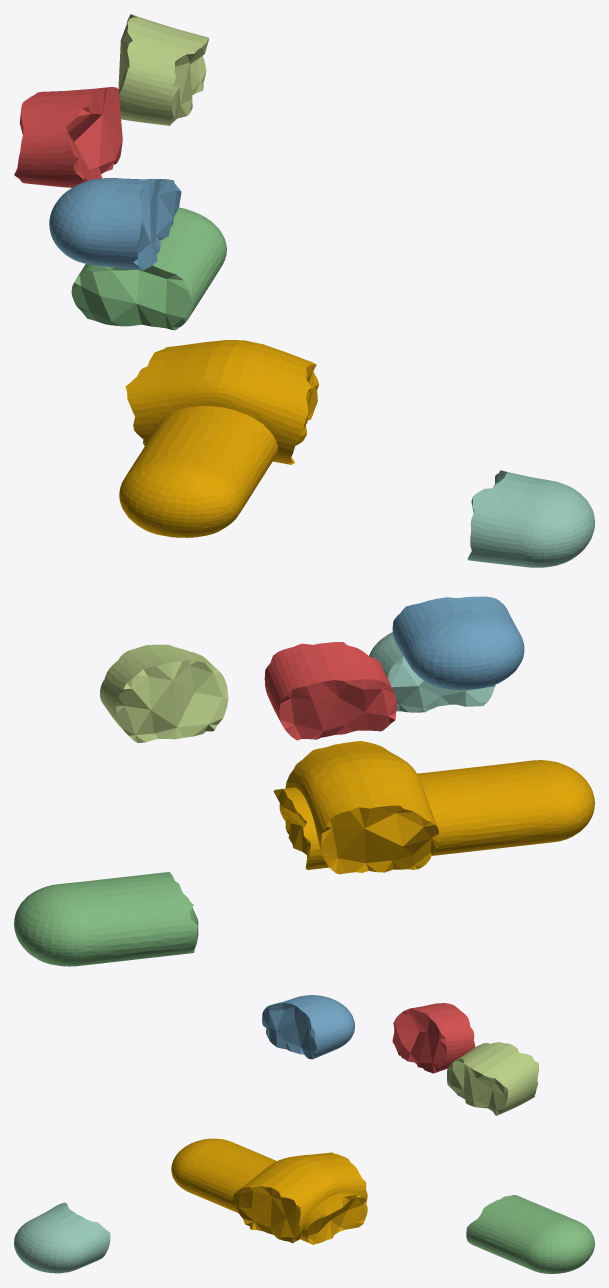
The model's file is fractured_58_6pcs_transformed.glb.
The picture shows the model from 3 angles, top to bottom: view 1: azimuth 30°, elevation 25°; view 2: azimuth 150°, elevation 25°; view 3: azimuth 270°, elevation 25°; orthographic projection. The views are drawn at different scales.
Parts seen in each view (by area): view 1: piece_0.obj, piece_3.obj, piece_2.obj, piece_4.obj, piece_1.obj, piece_5.obj; view 2: piece_0.obj, piece_3.obj, piece_1.obj, piece_2.obj, piece_5.obj, piece_4.obj; view 3: piece_0.obj, piece_3.obj, piece_5.obj, piece_4.obj, piece_2.obj, piece_1.obj.
Part boxes in pixels (bbox=[...]): piece_0.obj: bbox=[119, 340, 318, 537]; piece_3.obj: bbox=[71, 207, 226, 330]; piece_2.obj: bbox=[49, 178, 181, 270]; piece_4.obj: bbox=[467, 470, 594, 567]; piece_1.obj: bbox=[14, 87, 122, 187]; piece_5.obj: bbox=[118, 14, 209, 125]; piece_0.obj: bbox=[273, 741, 594, 874]; piece_3.obj: bbox=[14, 872, 198, 966]; piece_1.obj: bbox=[264, 642, 396, 740]; piece_2.obj: bbox=[392, 596, 524, 689]; piece_5.obj: bbox=[100, 644, 228, 742]; piece_4.obj: bbox=[369, 632, 495, 712]; piece_0.obj: bbox=[171, 1138, 367, 1244]; piece_3.obj: bbox=[466, 1195, 594, 1273]; piece_5.obj: bbox=[447, 1042, 538, 1115]; piece_4.obj: bbox=[14, 1202, 110, 1273]; piece_2.obj: bbox=[262, 995, 354, 1059]; piece_1.obj: bbox=[392, 1003, 475, 1073].
Size of the model in its own units: 0.9999 by 0.8116 by 2.19.
